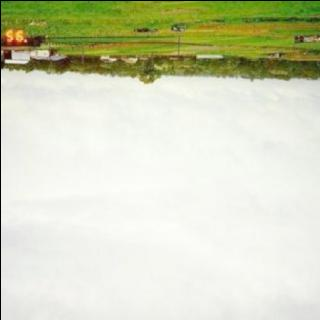Nimbostratus: (0, 78, 320, 320)
